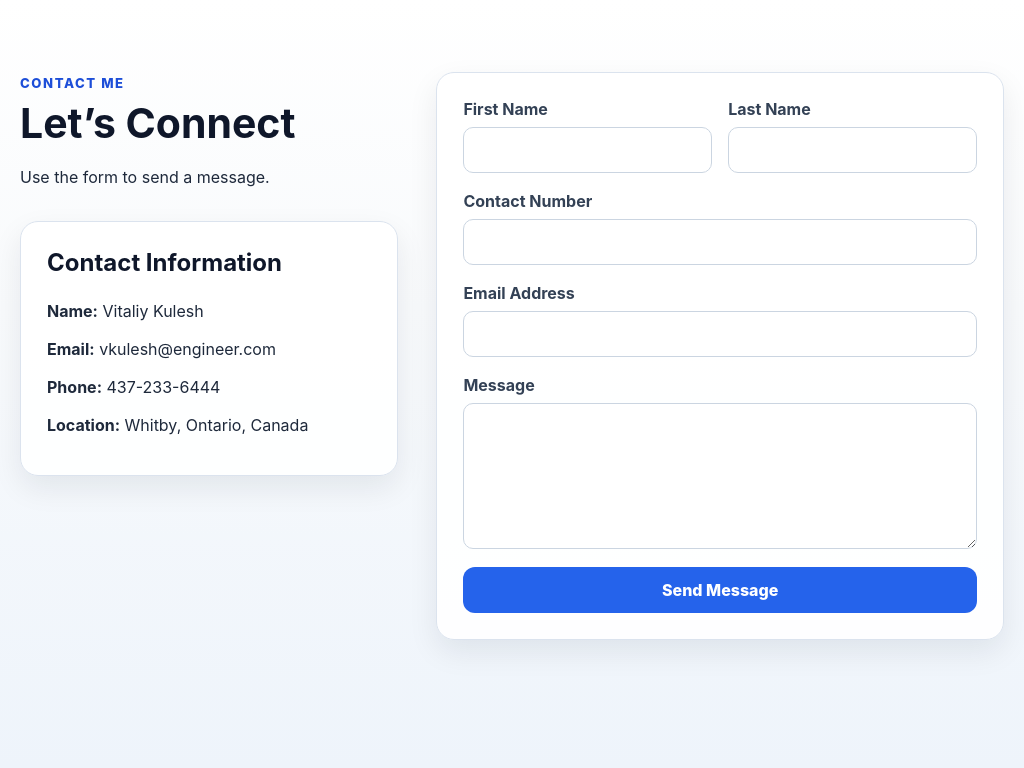
it: Contact page › submits all fields and resets the form after success
Type "Test" into the field labelled "First Name" at (588, 150), box [463,127,712,173]
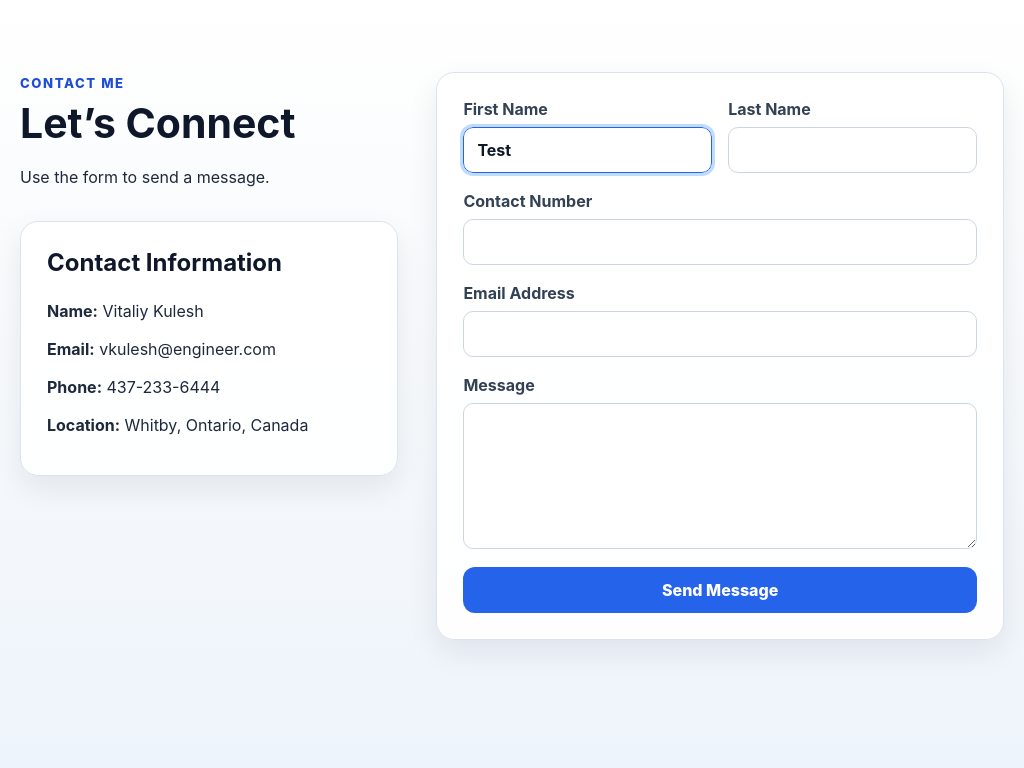
Type "Visitor" into the field labelled "Last Name" at (853, 150), box [728,127,977,173]
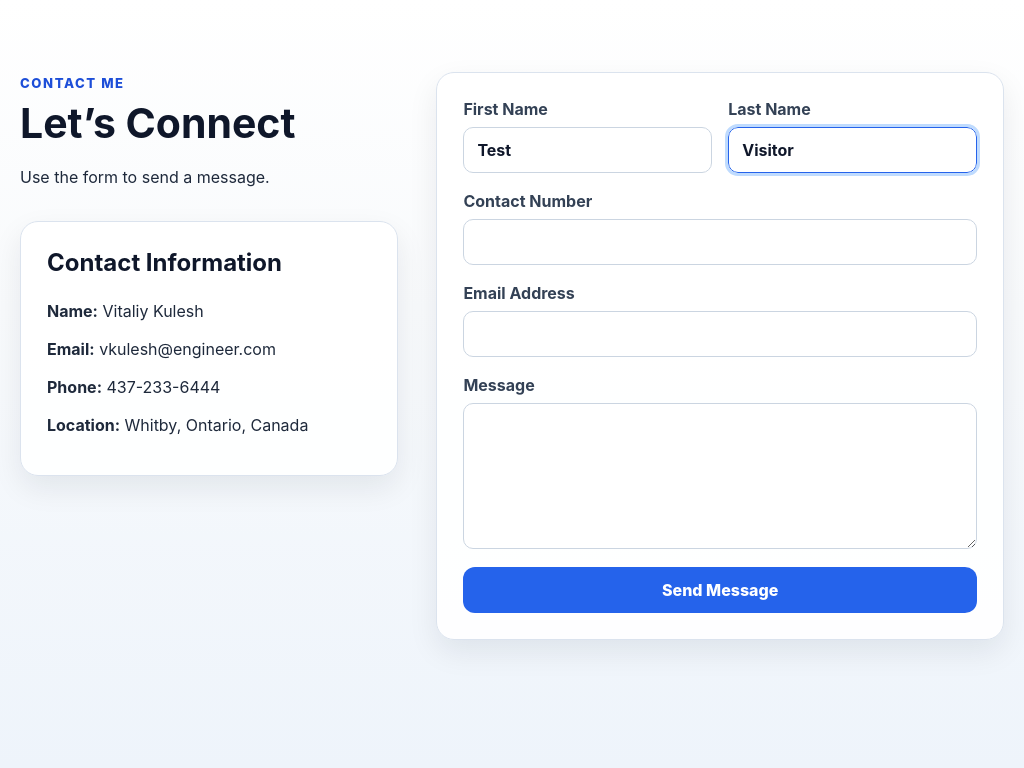
Type "555-0100" into the field labelled "Contact Number" at (720, 242), box [463,219,977,265]
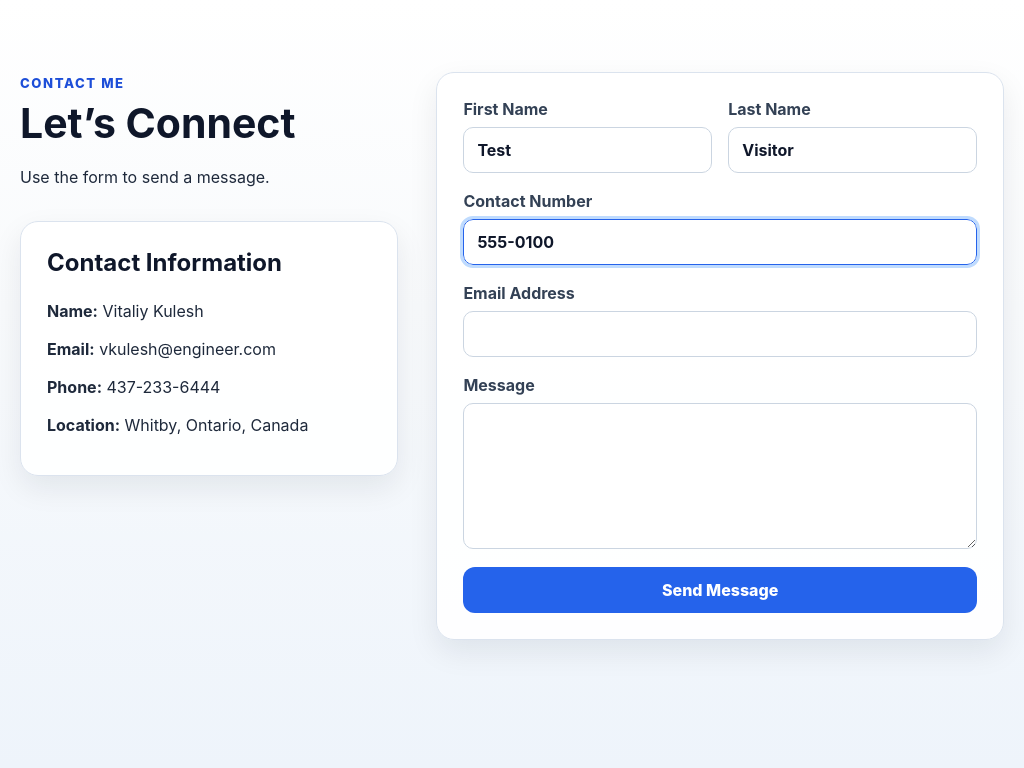
Type "test@example.com" into the field labelled "Email Address" at (720, 334), box [463,311,977,357]
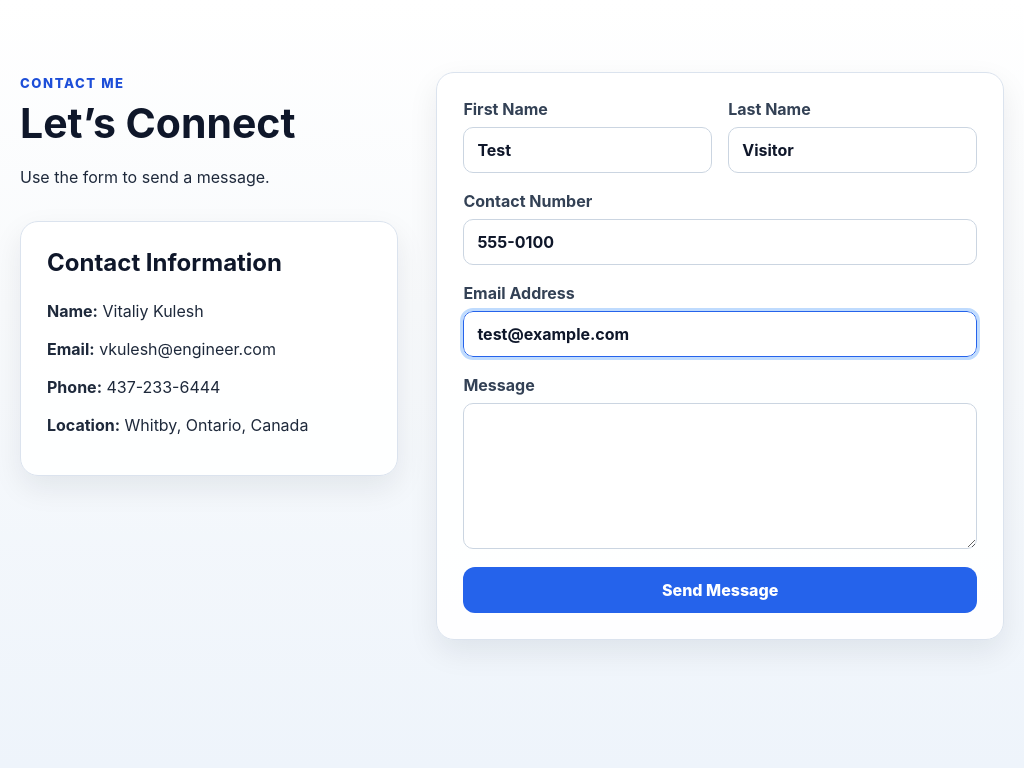
Type "A complete message" into the text box labelled "Message" at (720, 476), box [463,403,977,549]
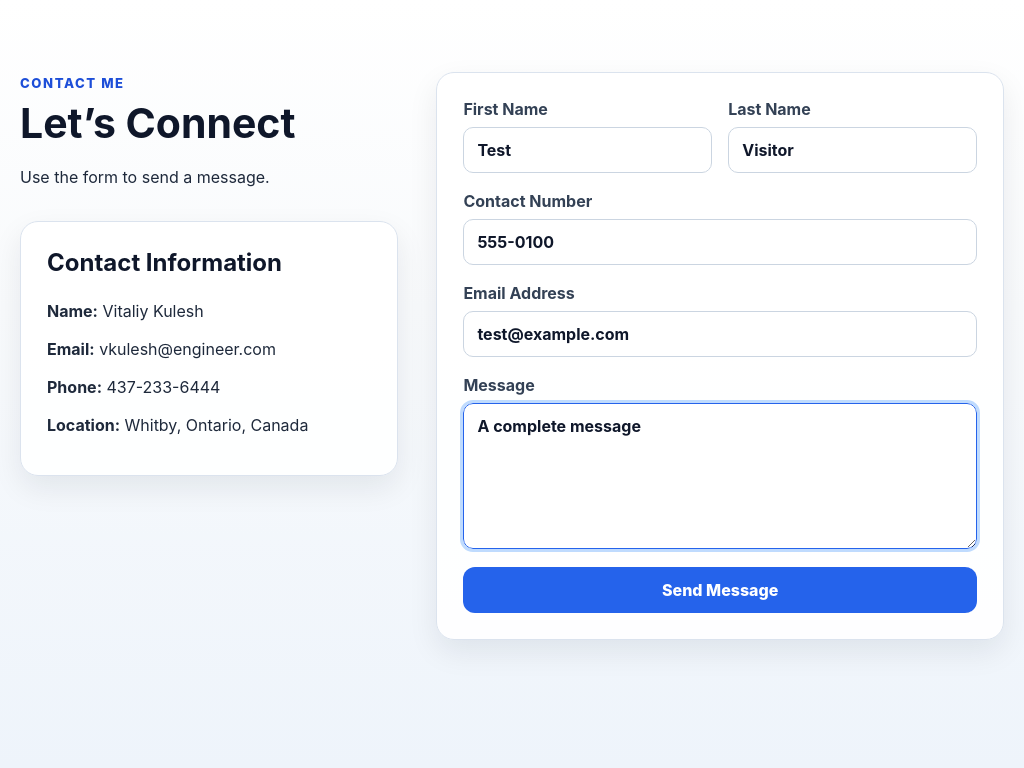
Click the button "Send Message" at (720, 590), box [463,567,977,613]
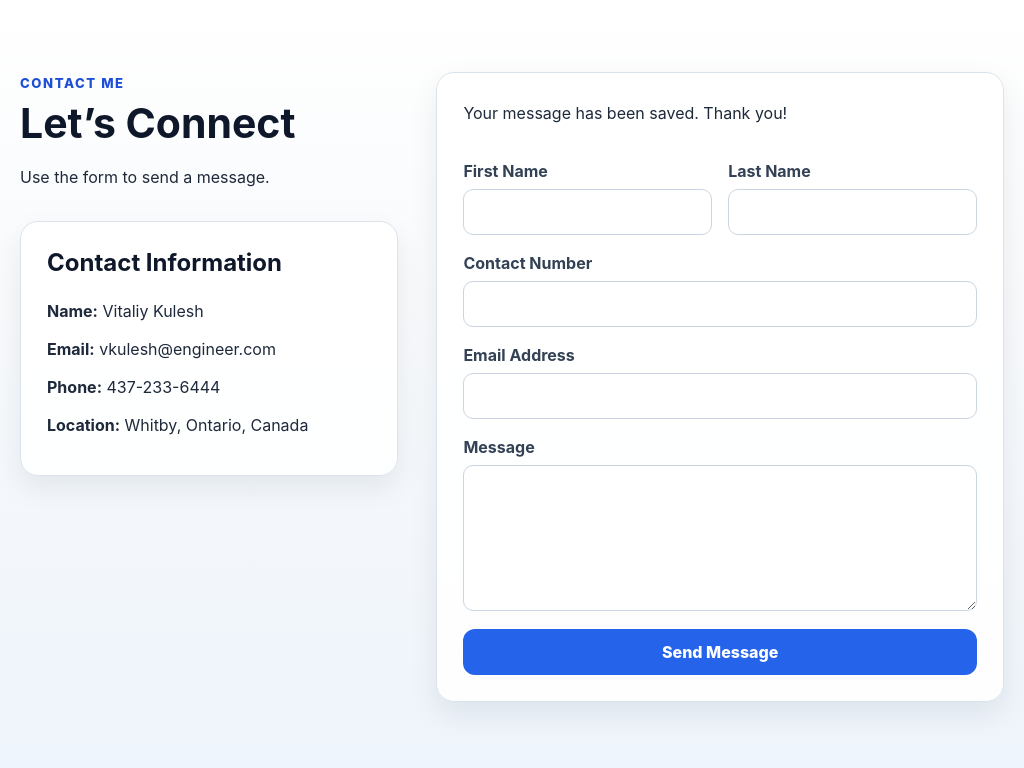
Expected: the message shows "Your message has been saved", [463,103,787,123]
Expected: the text box labelled "Message" is empty, [463,465,977,611]
